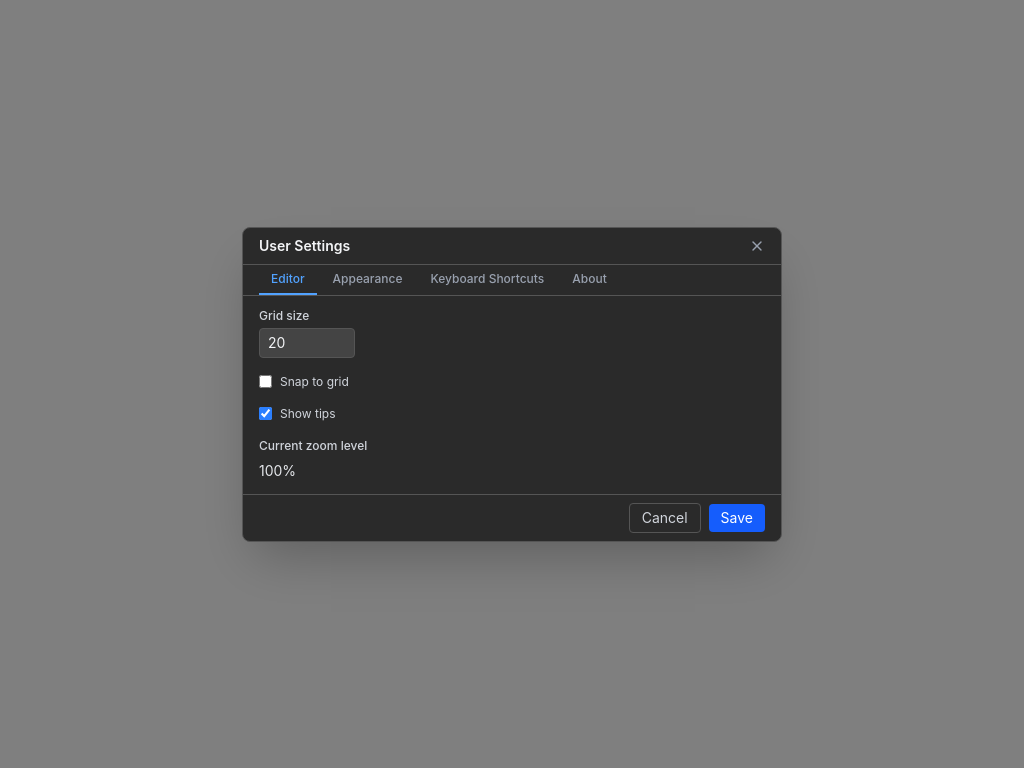
Test: UserSettingsDialog › tab switching › switches to Appearance tab
Click the button "Appearance". click: (367, 280)
box: [320, 264, 414, 294]
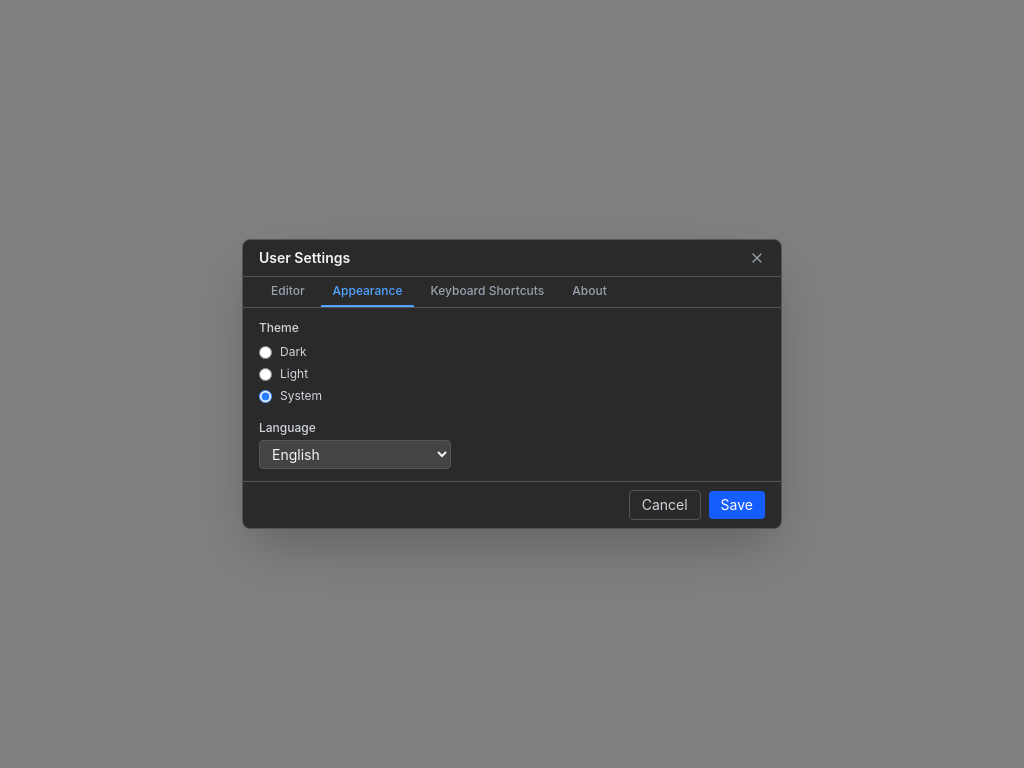
Result: the radio button with test id "settings-theme-dark" is shown at [259, 346, 272, 358]
Result: the radio button with test id "settings-theme-light" is shown at [259, 368, 272, 380]
Result: the radio button with test id "settings-theme-system" is shown at [259, 390, 272, 402]
